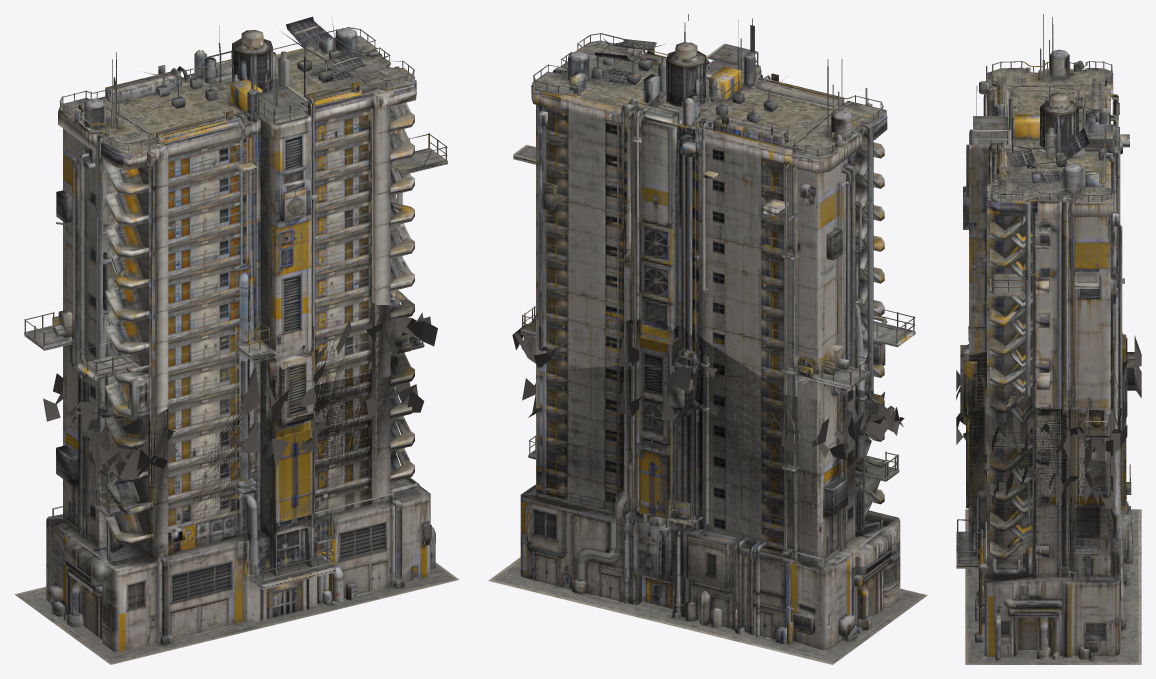
File: toa_phien.glb
3 views of the same model, side by side, from view 1: azimuth 30°, elevation 25°; view 2: azimuth 150°, elevation 25°; view 3: azimuth 270°, elevation 25° (orthographic). The views are drawn at different scales.
Parts seen in each view (by area): view 1: nguyen, do_1, do_2; view 2: nguyen, do_1, do_2; view 3: nguyen, do_1, do_2.
Boxes of the visible parts, box(x1,y1,x2,y2) form: nguyen: box(24, 16, 447, 574); do_1: box(14, 352, 459, 664); do_2: box(43, 299, 437, 573); nguyen: box(513, 14, 915, 563); do_1: box(488, 364, 927, 664); do_2: box(512, 308, 903, 564); nguyen: box(960, 14, 1129, 576); do_1: box(956, 352, 1141, 664); do_2: box(956, 332, 1141, 577).
Size of the model in its own units: 46.2 by 70 by 22.81.
Materials: 2 (1 with a texture image).
